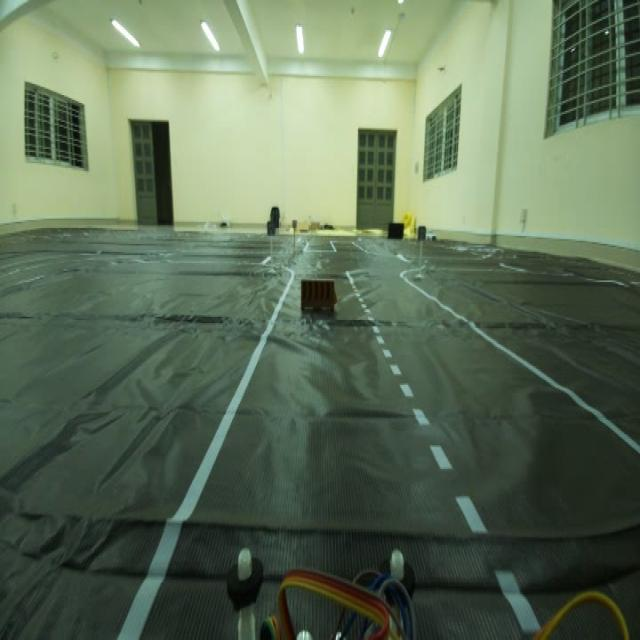roadblock: (298, 273, 345, 329)
